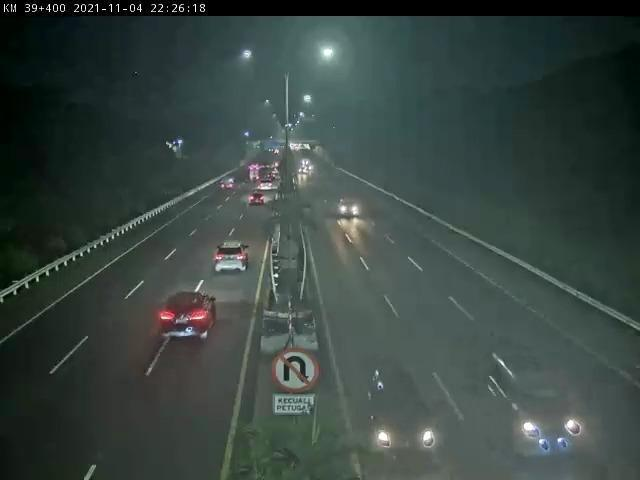car: (494, 336, 601, 463), (369, 356, 446, 467), (153, 283, 226, 348), (215, 235, 256, 279), (334, 193, 364, 229)
